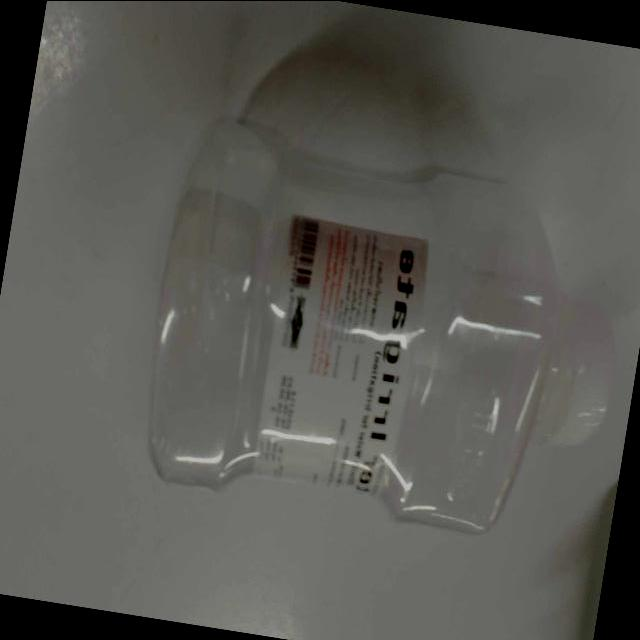Infectious: (146, 40, 583, 534)
